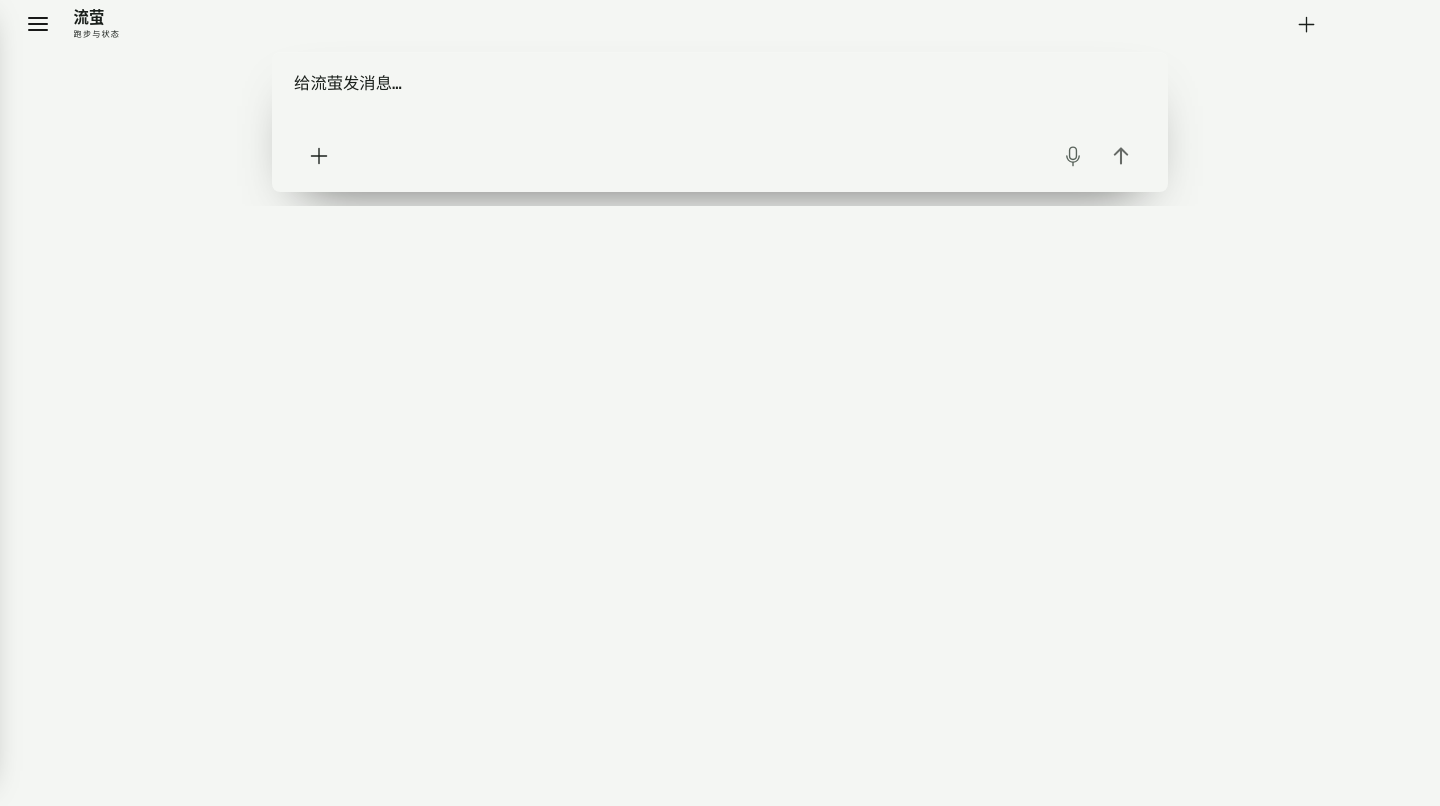
Test: 持续授权 false、双库 false 时按相应入口发送，重复点击不重复提交
Type "今晚怎么跑" into the text box named "给流萤的消息" at point(720, 99), box [290,68,1150,130]
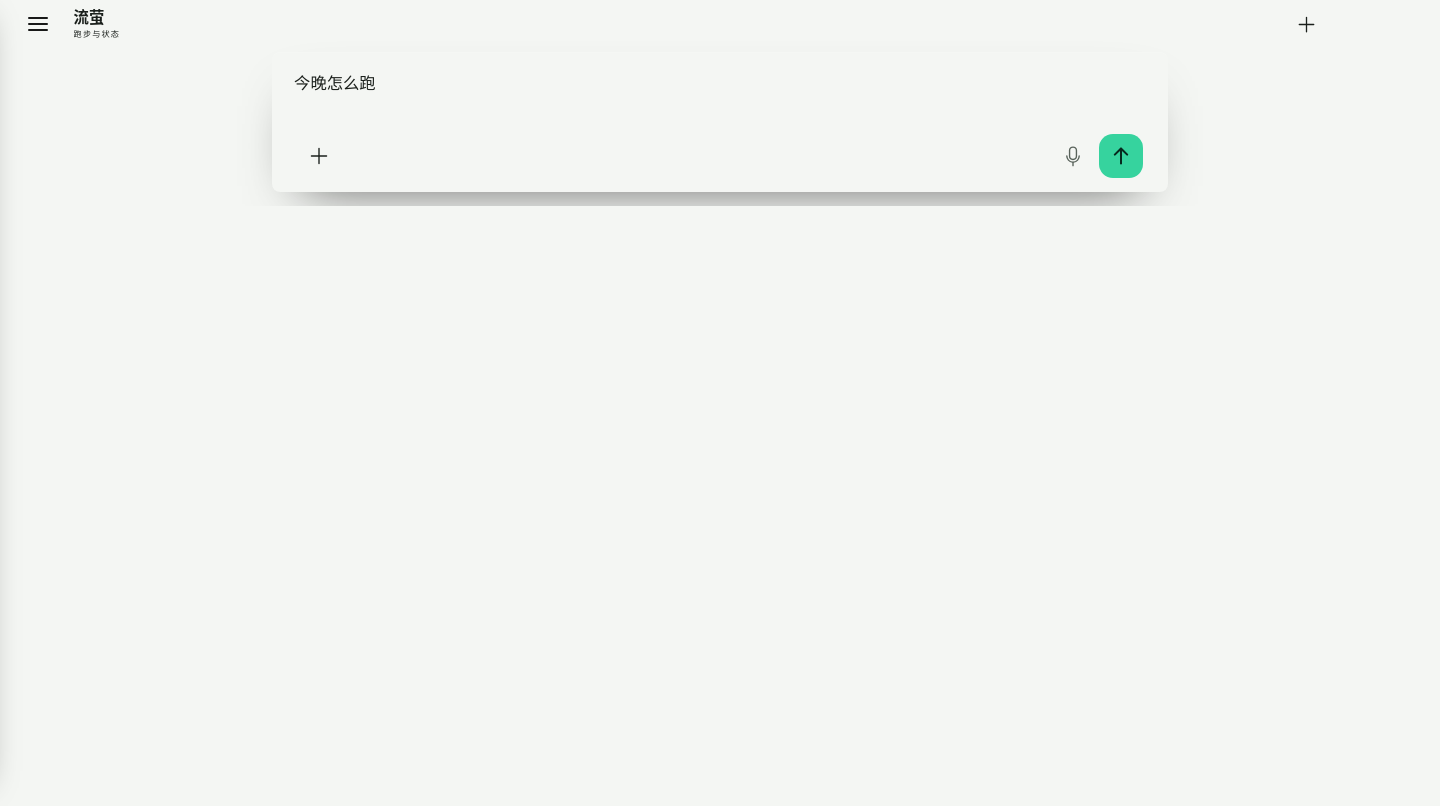
Click the button named "在线执行" at point(1121, 156), box [1099,134,1143,178]
(page scrolled)
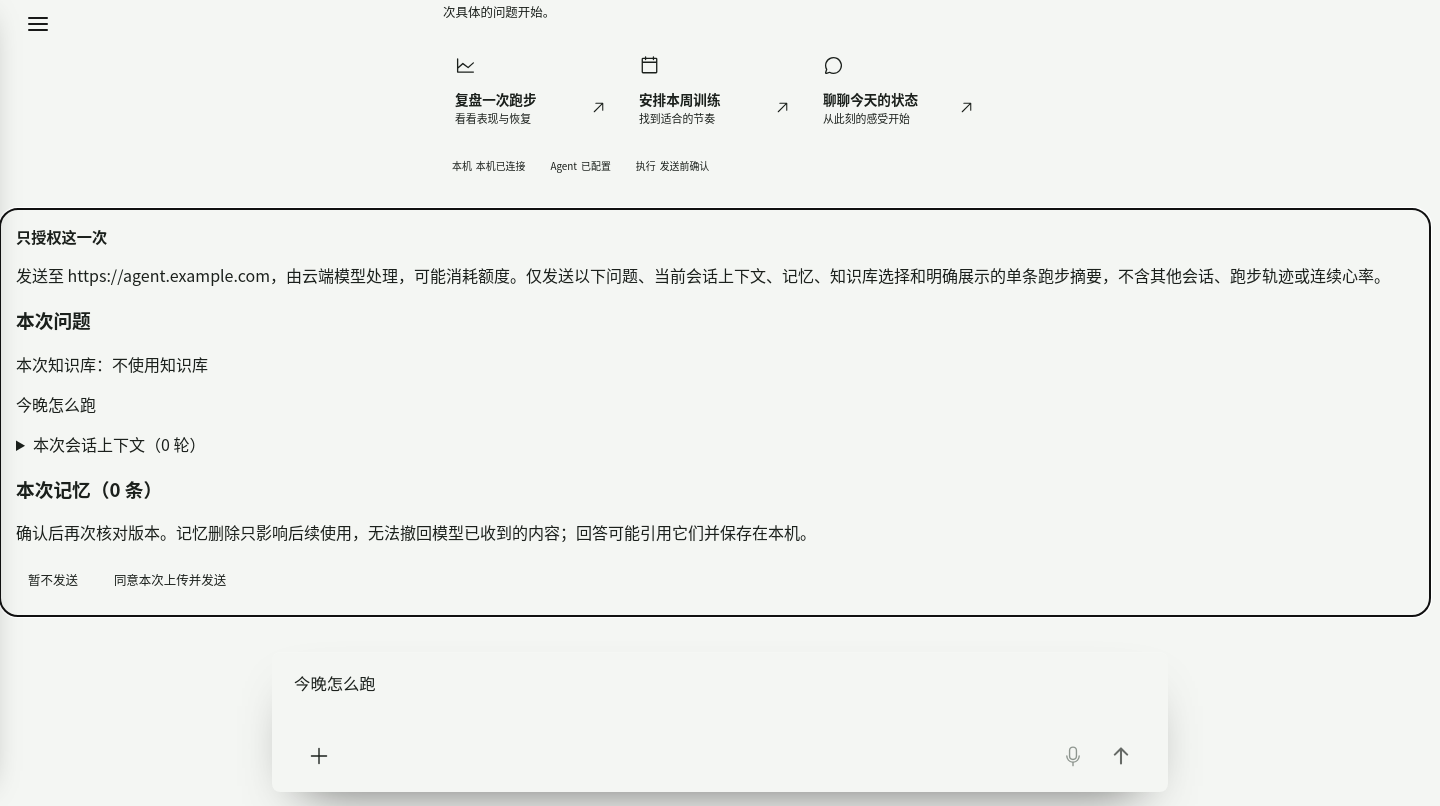
Expected: the button "同意本次上传并发送" is shown, [102,560,238,600]
